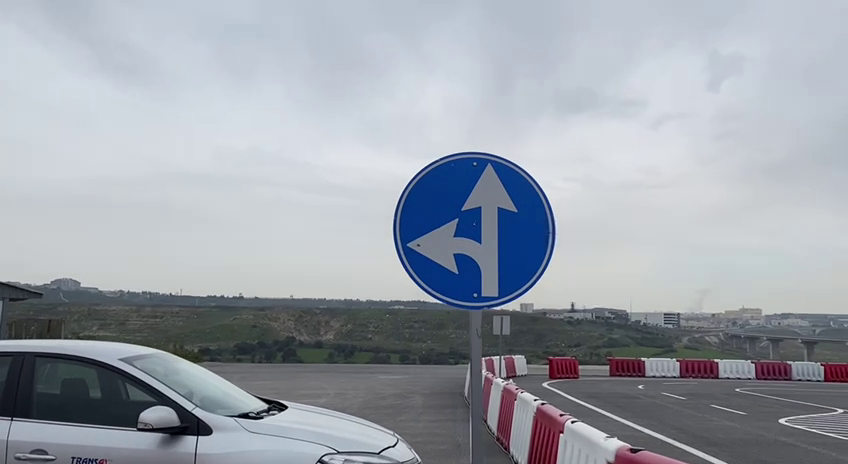forwardAndLeft: (387, 149, 563, 312)
